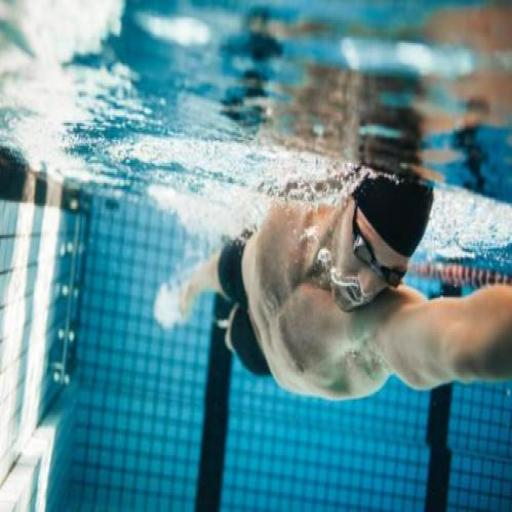swimming: (162, 161, 511, 406)
